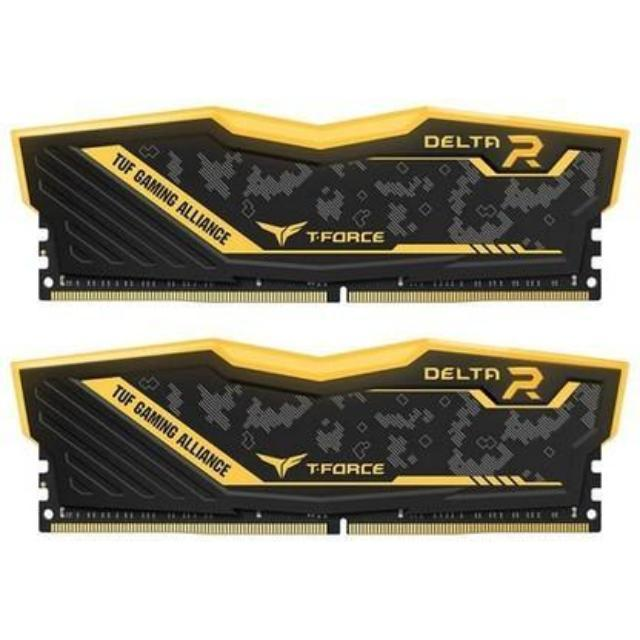RAM: (3, 327, 628, 556), (10, 99, 635, 312)
